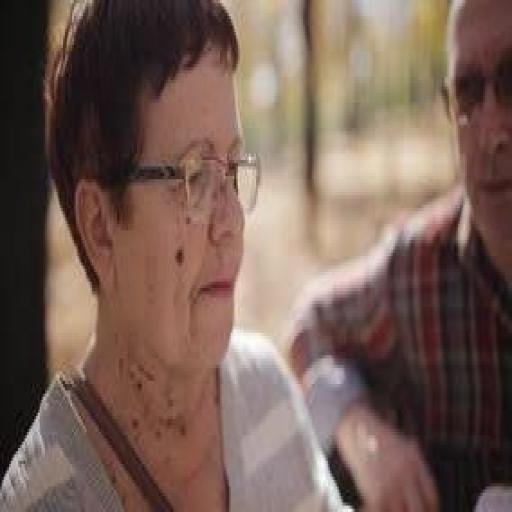sitting: (0, 0, 359, 509), (283, 0, 510, 509)
